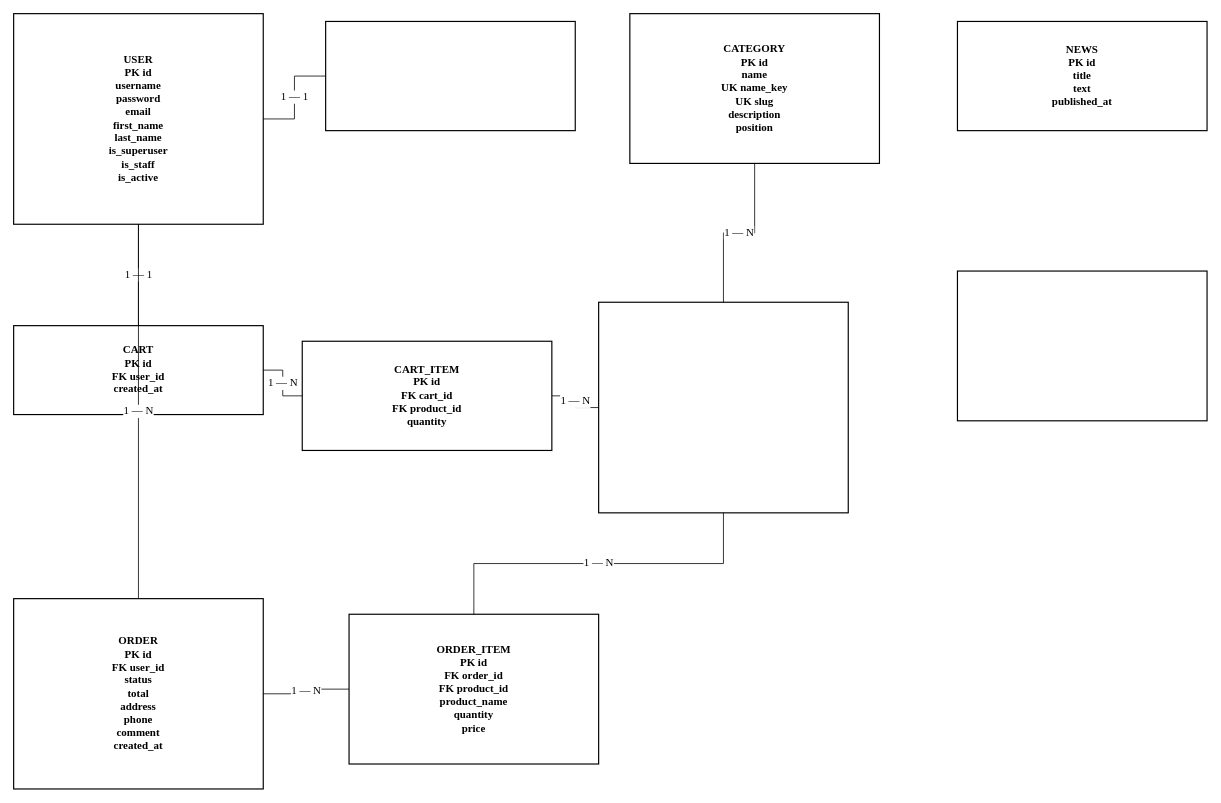
The diagram is 1221 pixels wide and 803 high, and some of its shapes have lost their labels. Here are the shapes that lost their labels. From the top down, the centre of each, then its label:
At point 450,76: "PROFILE PK id FK user_id role phone".
At point 1082,345: "WORK_VIDEO PK id title description place shot_at video".
At point 723,407: "PRODUCT PK id FK category_id name price description material size image in_stock".
